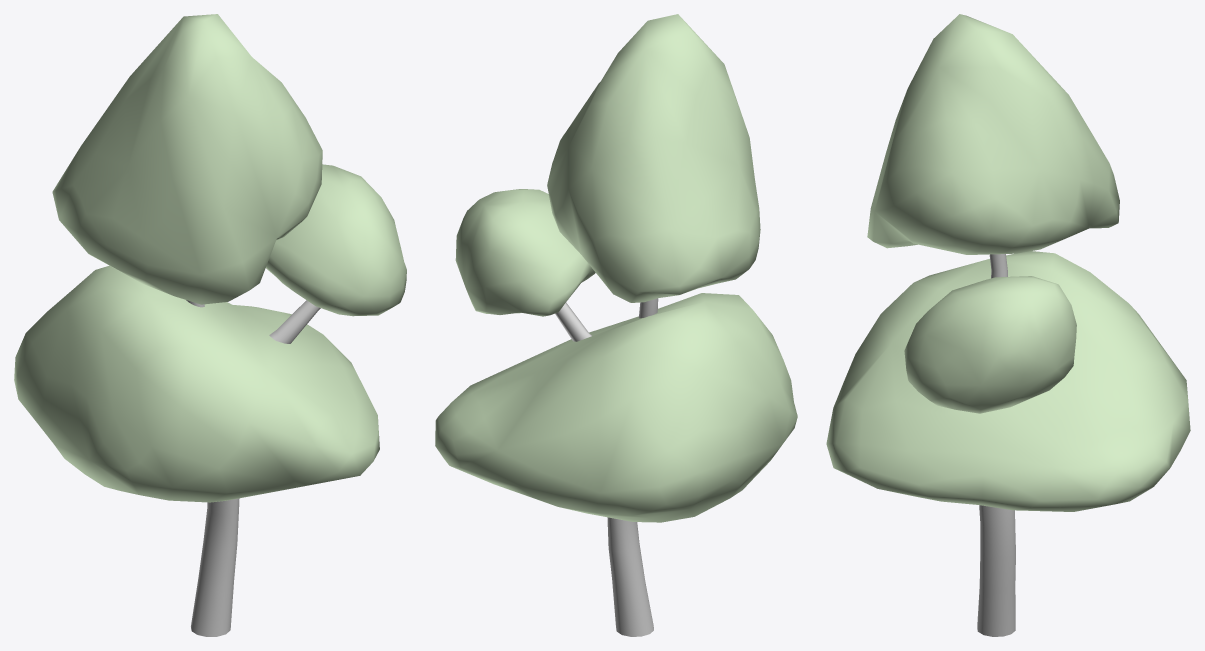
Rendered from stylized-tree-09.fbx.
The picture shows the model from 3 angles, left to right: view 1: azimuth 30°, elevation 25°; view 2: azimuth 150°, elevation 25°; view 3: azimuth 270°, elevation 25°; orthographic projection. The views are drawn at different scales.
Visible parts, largest first — view 1: Tree_09_leaves, Tree_09_bark; view 2: Tree_09_leaves, Tree_09_bark; view 3: Tree_09_leaves, Tree_09_bark.
Part boxes in pixels (box(x1,y1,x2,y2)): Tree_09_leaves: box(14, 14, 406, 502); Tree_09_bark: box(186, 300, 320, 636); Tree_09_leaves: box(435, 14, 797, 522); Tree_09_bark: box(555, 298, 658, 636); Tree_09_leaves: box(826, 14, 1190, 511); Tree_09_bark: box(977, 254, 1015, 636).
Bounding box in the file's own units: 114 × 213 × 117.
